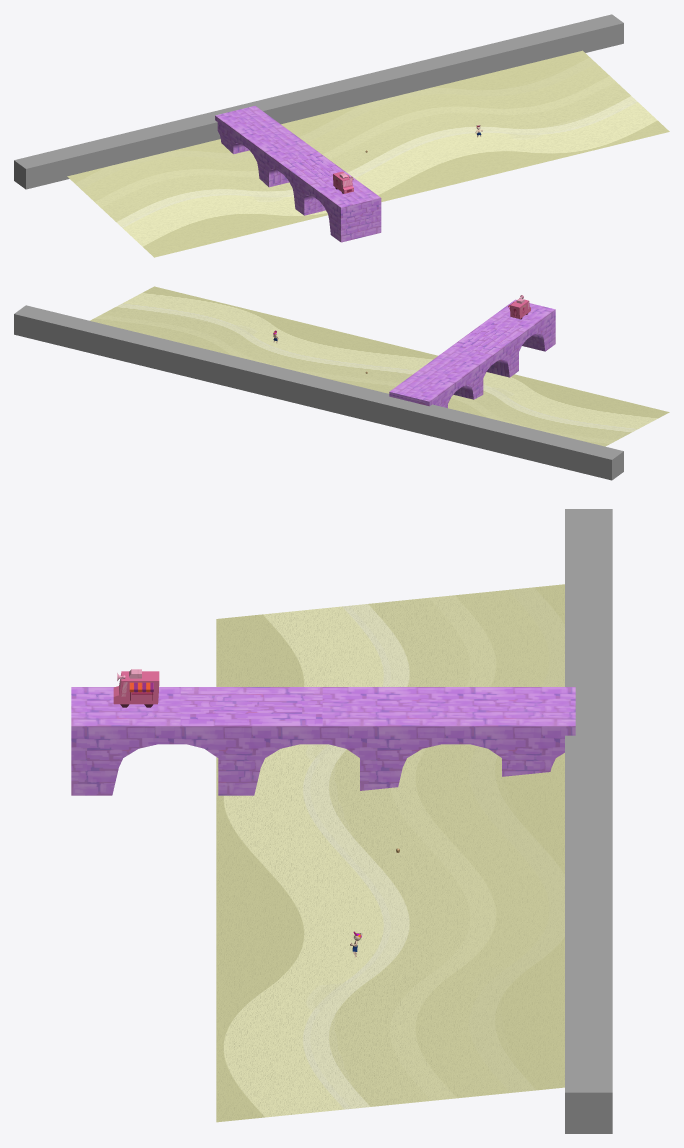
Rendered from full_timmy.fbx.
The picture shows the model from 3 angles, top to bottom: view 1: azimuth 30°, elevation 25°; view 2: azimuth 150°, elevation 25°; view 3: azimuth 270°, elevation 25°; orthographic projection. The views are drawn at different scales.
Parts seen in each view (by area): view 1: beach, back_wall, boardwalk, ic_truck; view 2: beach, back_wall, boardwalk; view 3: beach, boardwalk, back_wall, ic_truck.
Part boxes in pixels (x1,y1,x2,y2): beach: [67, 50, 669, 257]; back_wall: [14, 14, 623, 189]; boardwalk: [215, 106, 381, 242]; ic_truck: [333, 171, 353, 193]; beach: [90, 286, 669, 446]; back_wall: [14, 305, 623, 480]; boardwalk: [389, 299, 555, 407]; beach: [216, 584, 564, 1122]; boardwalk: [71, 687, 575, 795]; back_wall: [565, 509, 612, 1133]; ic_truck: [113, 669, 159, 707].
Size of the model in its own units: 124 by 11.34 by 48.7.
6 materials, 5 textured.
